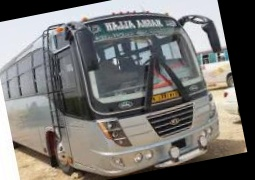bus: (0, 0, 230, 180)
